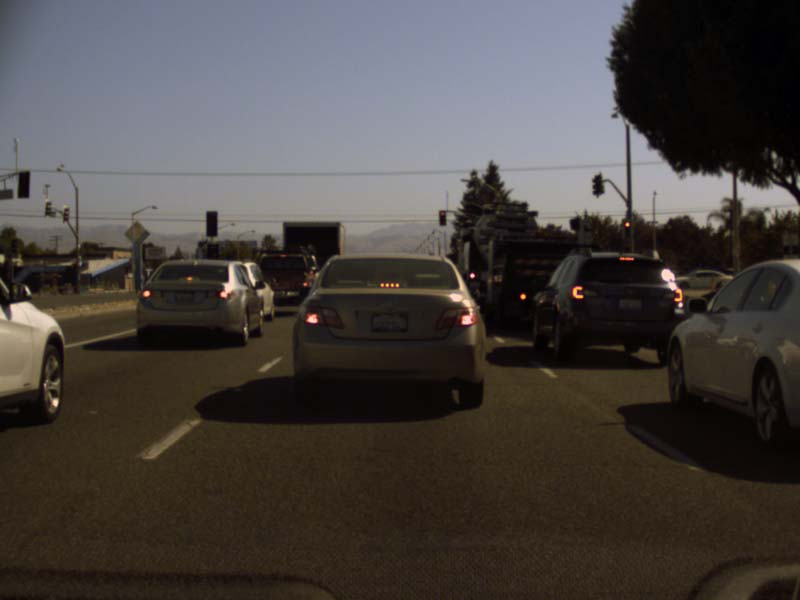Green: (208, 245, 217, 266)
Red: (439, 211, 445, 225), (625, 222, 629, 236)
